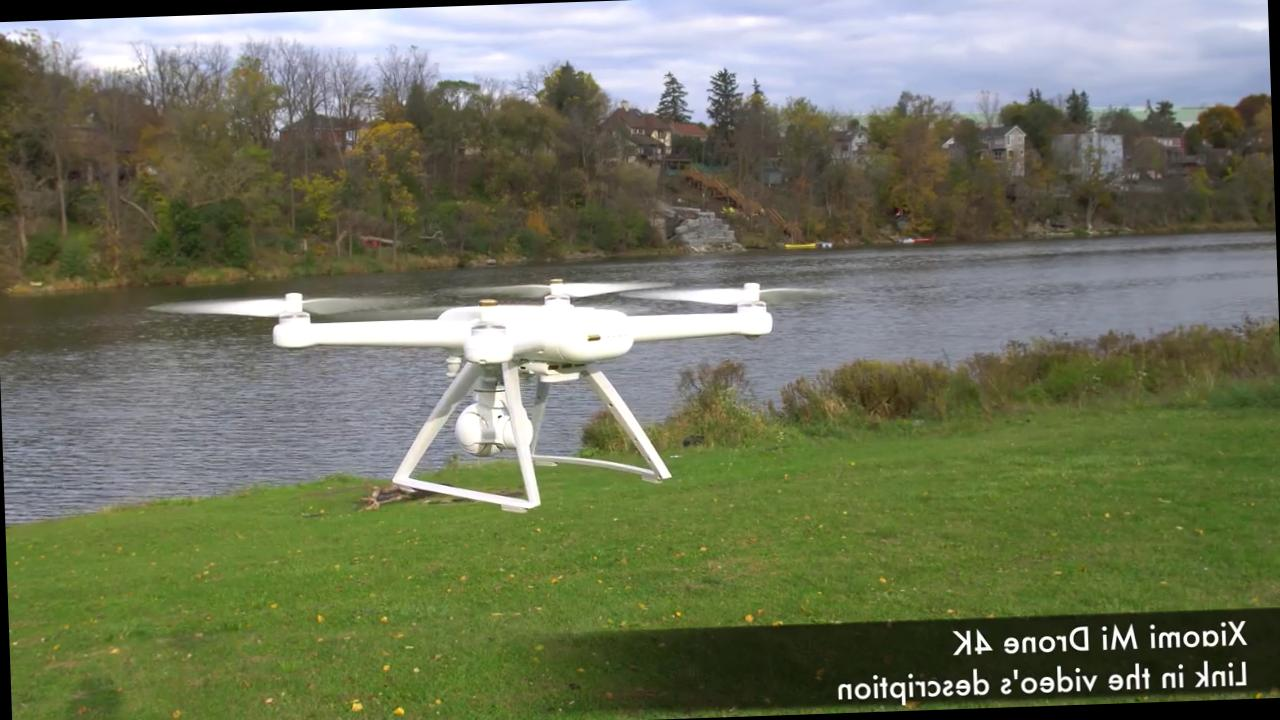drone: (143, 240, 818, 435)
